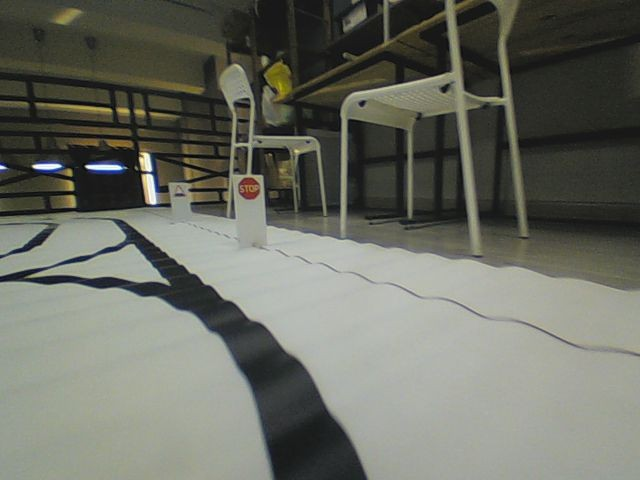Nerov: (173, 184, 185, 197)
Stop: (236, 176, 261, 201)
